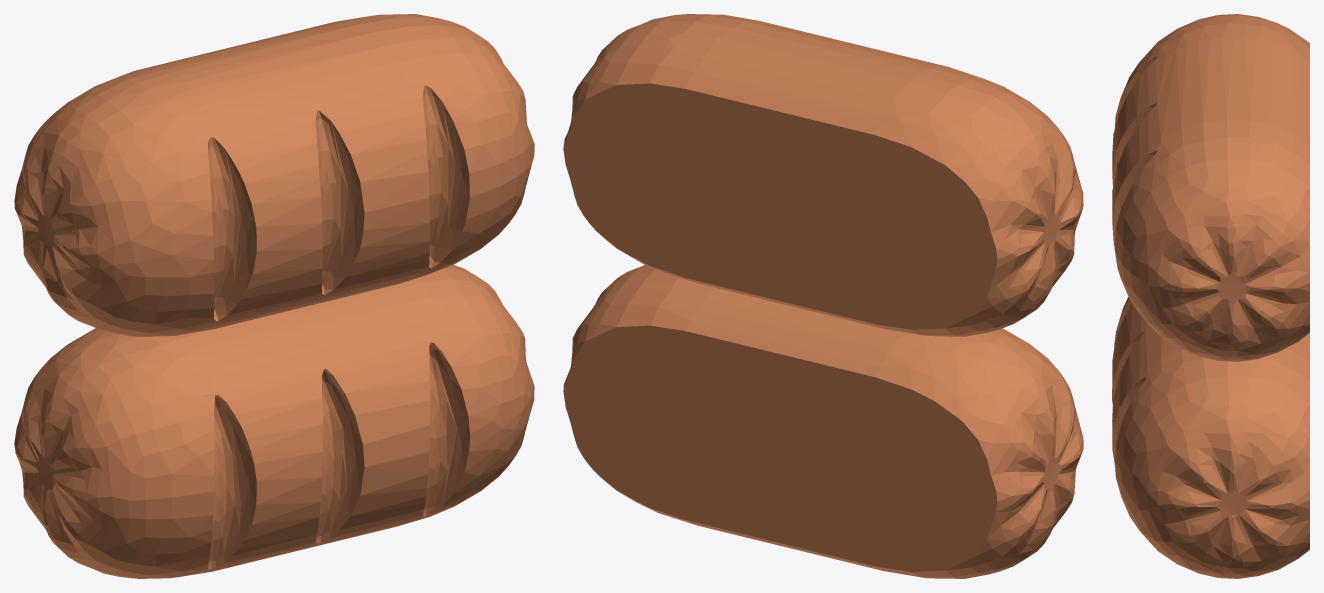
Rendered from topping_sausageA.glb.
3 renders of one model, left to right at view 1: azimuth 30°, elevation 25°; view 2: azimuth 150°, elevation 25°; view 3: azimuth 270°, elevation 25°, orthographic. The views are drawn at different scales.
Visible parts, largest first — view 1: Cube.706; view 2: Cube.706; view 3: Cube.706.
Part boxes in pixels (bbox=[...]): Cube.706: bbox=[14, 14, 534, 578]; Cube.706: bbox=[563, 14, 1083, 578]; Cube.706: bbox=[1112, 14, 1309, 578].
Bounding box in the file's own units: 7.65 × 7.68 × 3.15.
